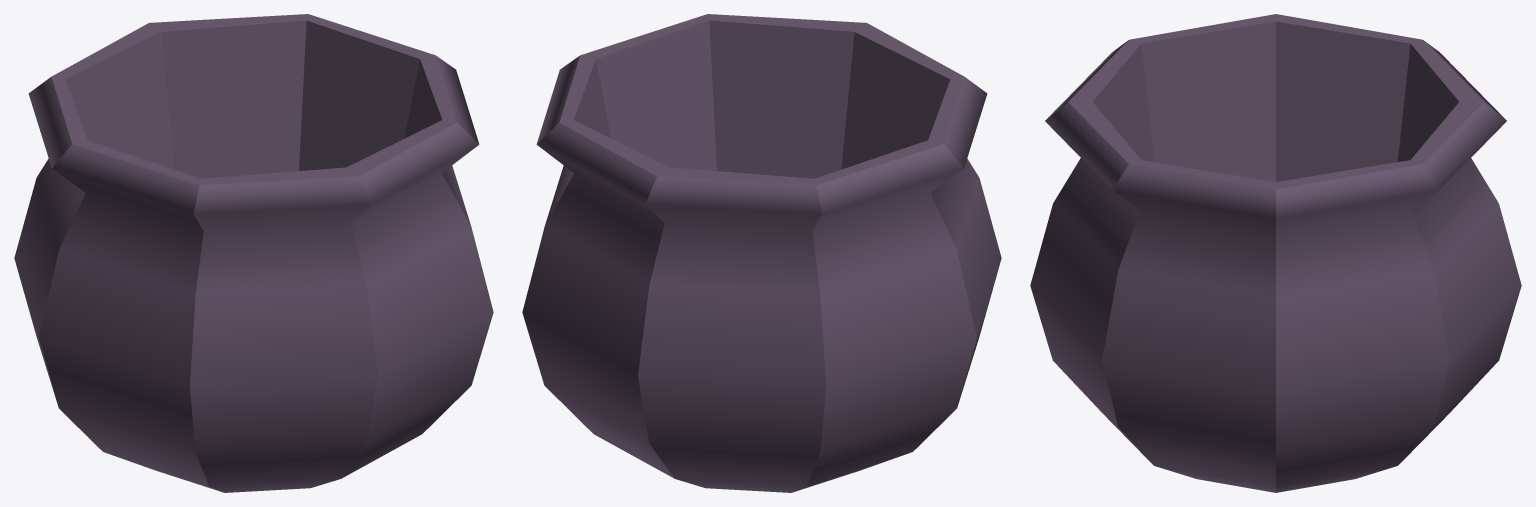
The model's file is AssetCaldero.fbx.
3 renders of one model, left to right at view 1: azimuth 30°, elevation 25°; view 2: azimuth 150°, elevation 25°; view 3: azimuth 270°, elevation 25°, orthographic.
Parts seen in each view (by area): view 1: Caldero; view 2: Caldero; view 3: Caldero.
Boxes of the visible parts, x1,y1,x2,y2 form: Caldero: [14, 14, 493, 492]; Caldero: [522, 14, 1001, 492]; Caldero: [1030, 14, 1521, 492].
Size of the model in its own units: 3.43 by 2.64 by 3.43.
